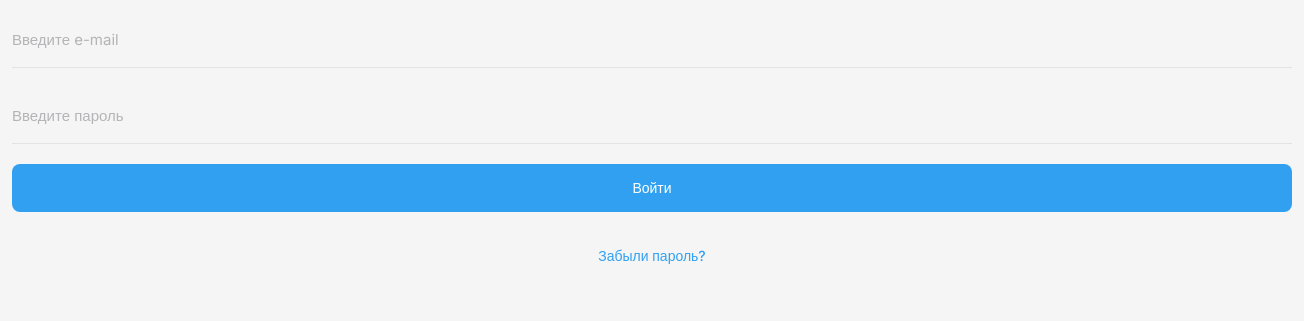
Test: LoginForm › shows validation errors and blocks submit for invalid credentials
The width and height of the screenshot is (1304, 321).
In the field labelled "Введите e-mail": {"x": 652, "y": 40} [12, 12, 1292, 68], type "wrong-email"
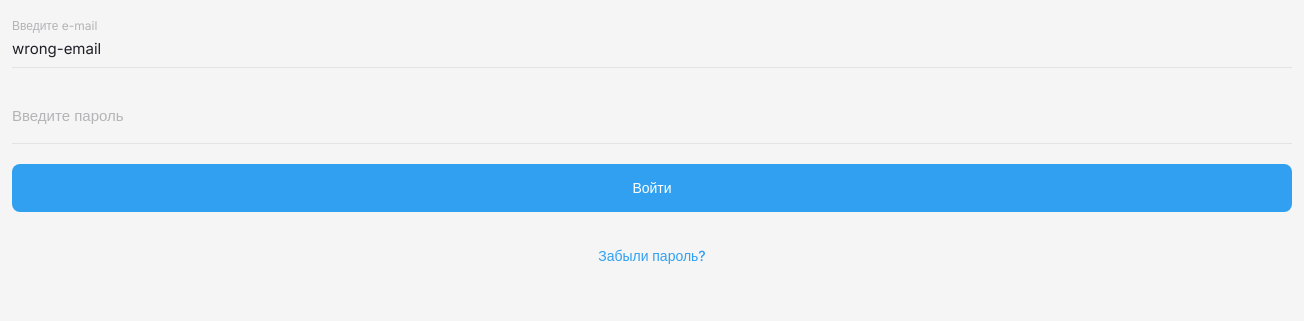
In the password field labelled "Введите пароль": {"x": 652, "y": 116} [12, 88, 1292, 144], type "123"
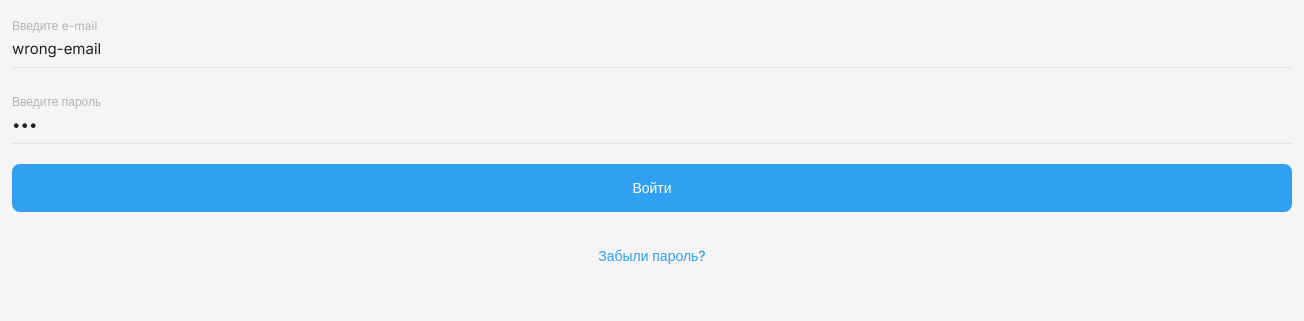
Submit the form "Войти"
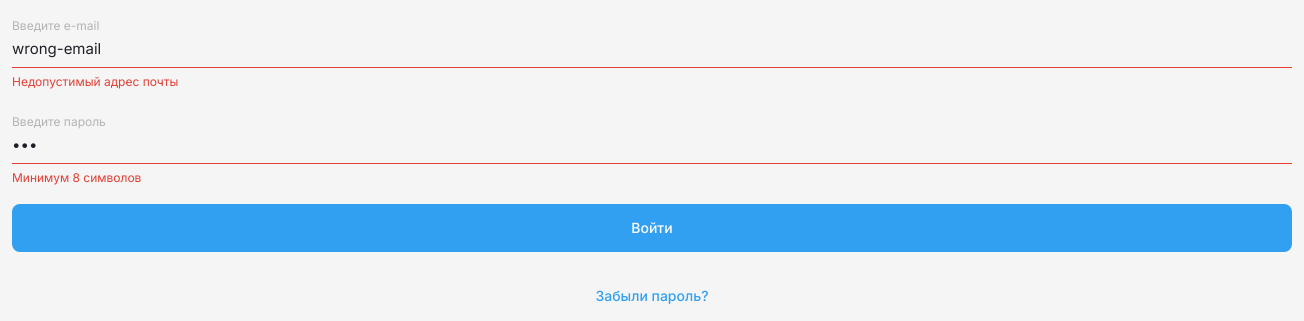
Now the text "Недопустимый адрес почты" is shown, box [12, 74, 178, 89]
Now the text "Минимум 8 символов" is shown, box [12, 170, 141, 185]
